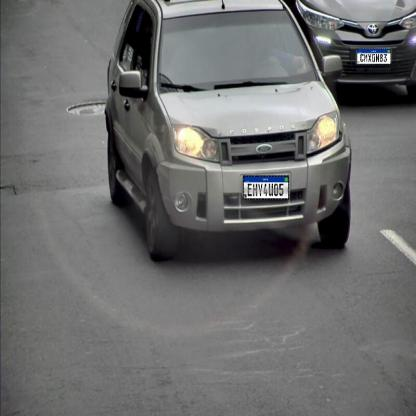PlacaM: (243, 175, 289, 200), (357, 48, 391, 64)
